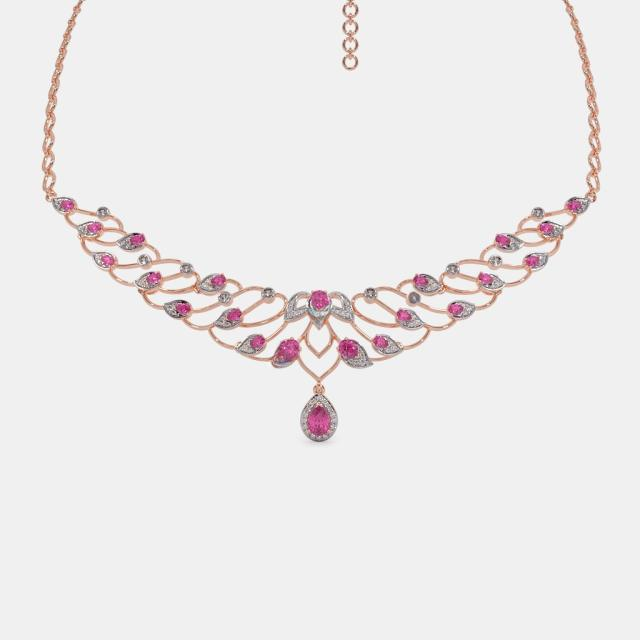missing gem: (408, 292, 421, 305)
